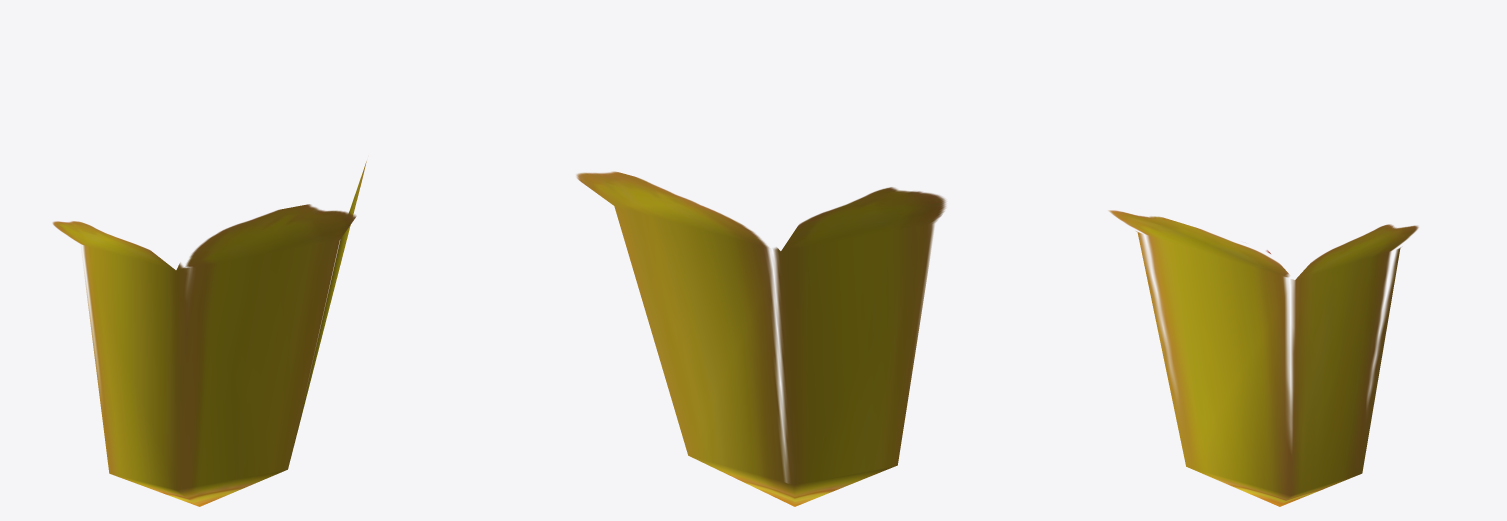
The model's file is n_petal_yellow.glb.
3 views of the same model, side by side, from view 1: azimuth 30°, elevation 25°; view 2: azimuth 150°, elevation 25°; view 3: azimuth 270°, elevation 25° (orthographic). The views are drawn at different scales.
Visible parts, largest first — view 1: Petal_4; view 2: Petal_4; view 3: Petal_4.
Part boxes in pixels (bbox=[...]): Petal_4: bbox=[52, 161, 366, 506]; Petal_4: bbox=[576, 171, 945, 506]; Petal_4: bbox=[1108, 210, 1418, 506].
Size of the model in its own units: 0.3291 by 0.2521 by 0.2444.
Materials: 1 (1 with a texture image).
